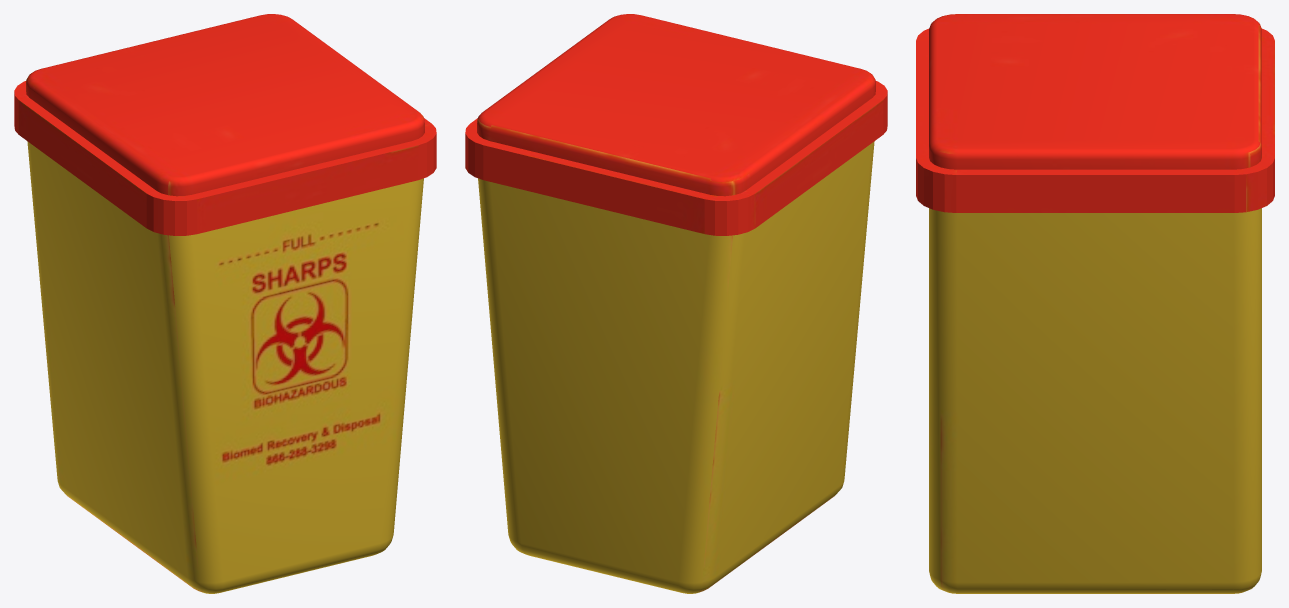
File: sharps.glb
The picture shows the model from 3 angles, left to right: view 1: azimuth 30°, elevation 25°; view 2: azimuth 150°, elevation 25°; view 3: azimuth 270°, elevation 25°; orthographic projection. The views are drawn at different scales.
Visible parts, largest first — view 1: Cube; view 2: Cube; view 3: Cube.
Part boxes in pixels (x1,y1,x2,y2): Cube: [14, 14, 436, 593]; Cube: [465, 14, 887, 593]; Cube: [916, 14, 1274, 593].
Size of the model in its own units: 0.1466 by 0.2103 by 0.1466.
Materials: 1 (1 with a texture image).
